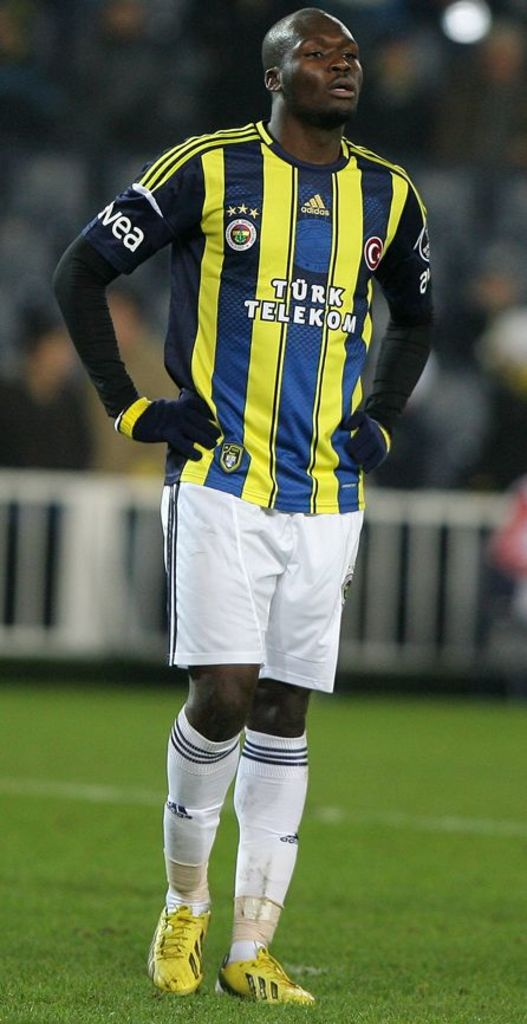Person: (50, 6, 437, 1005)
